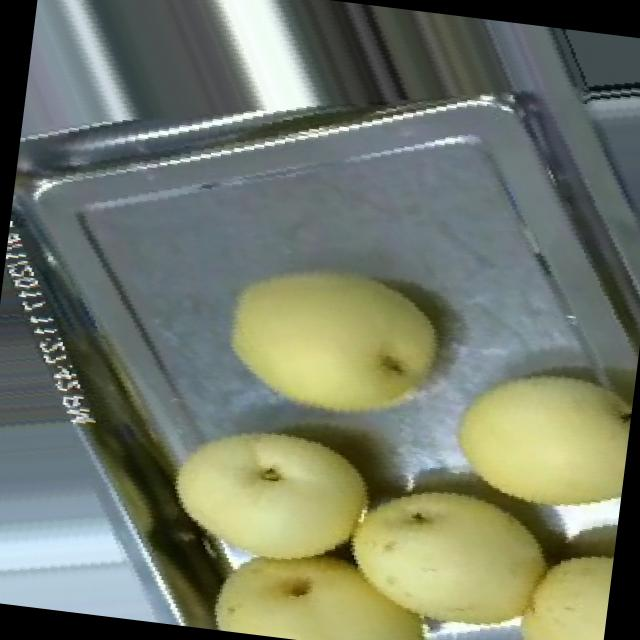Fruit: (194, 233, 472, 455), (175, 442, 458, 640), (311, 441, 591, 640), (422, 330, 638, 550)
